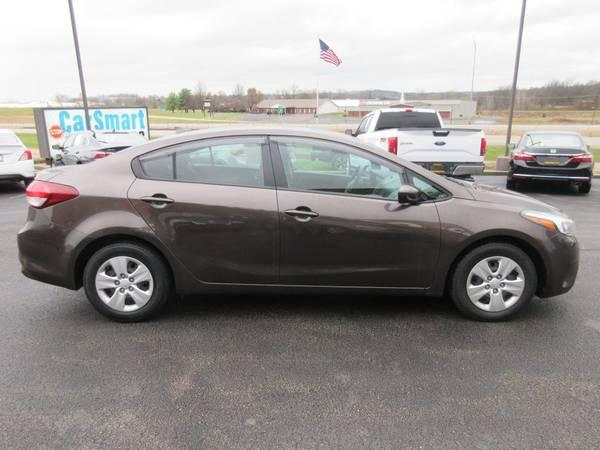Front_Bumper: (538, 232, 581, 297)
Front_Fender: (435, 197, 557, 295)
Front_Right_Door: (278, 188, 440, 289)
Front_Right_Window: (271, 132, 450, 201)
Rear_Bumper: (16, 205, 90, 289)
Rear_Fender: (36, 169, 145, 235)
Rear_Right_Door: (124, 179, 284, 289)
Rear_Right_Window: (132, 135, 277, 188)
Right_Headlight: (521, 208, 577, 239)
Right_Taillight: (23, 180, 81, 211)
Roof: (61, 123, 472, 197)
Wheel: (453, 239, 543, 321), (82, 238, 168, 318)
